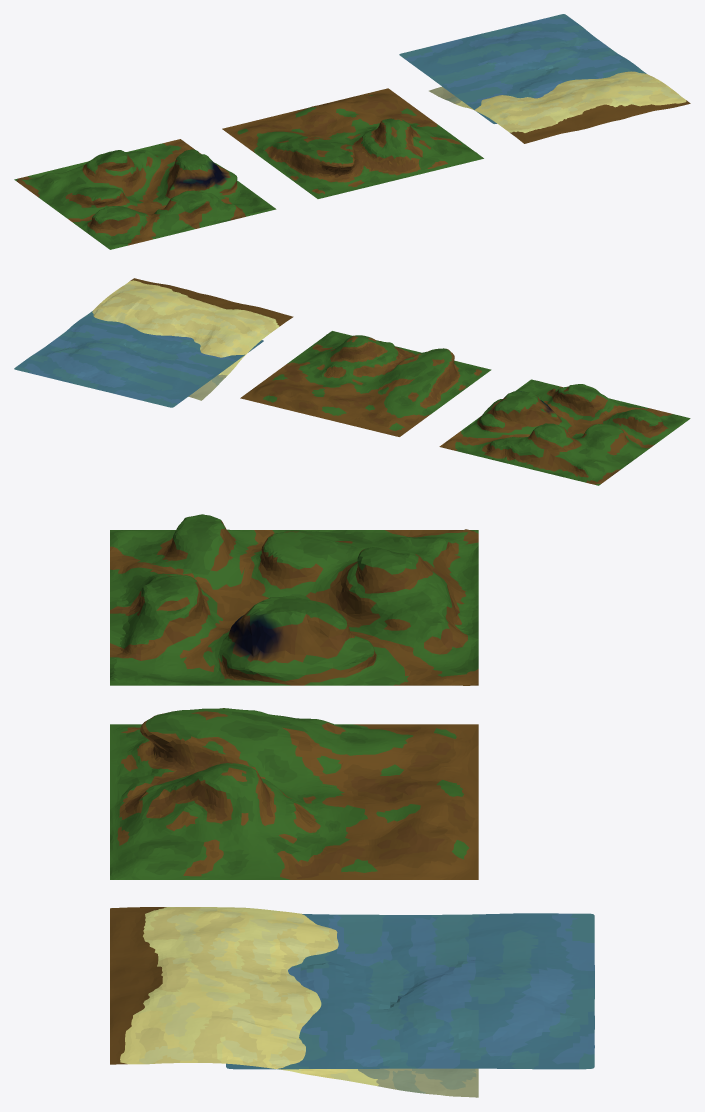
The model's file is terrain_1.fbx.
The picture shows the model from 3 angles, top to bottom: view 1: azimuth 30°, elevation 25°; view 2: azimuth 150°, elevation 25°; view 3: azimuth 270°, elevation 25°; orthographic projection. The views are drawn at different scales.
Parts seen in each view (by area): view 1: zielone 1, zielone 2, woda, plaza 1; view 2: zielone 2, zielone 1, woda, plaza 1; view 3: zielone 2, zielone 1, woda, plaza 1.
Boxes of the visible parts, x1,y1,x2,y2 form: zielone 1: (14,139,276,249); zielone 2: (222,88,483,198); woda: (399,14,646,123); plaza 1: (429,71,690,143); zielone 2: (240,331,491,436); zielone 1: (439,379,690,485); woda: (14,311,263,407); plaza 1: (92,278,293,400); zielone 2: (110,708,478,879); zielone 1: (110,514,478,685); woda: (226,913,594,1069); plaza 1: (110,907,478,1097).
Size of the model in its own units: 6975 by 491 by 2630.
